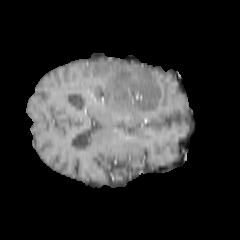glioma: (87, 67, 162, 112)
